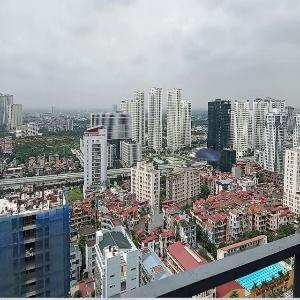drone: (176, 133, 234, 191)
